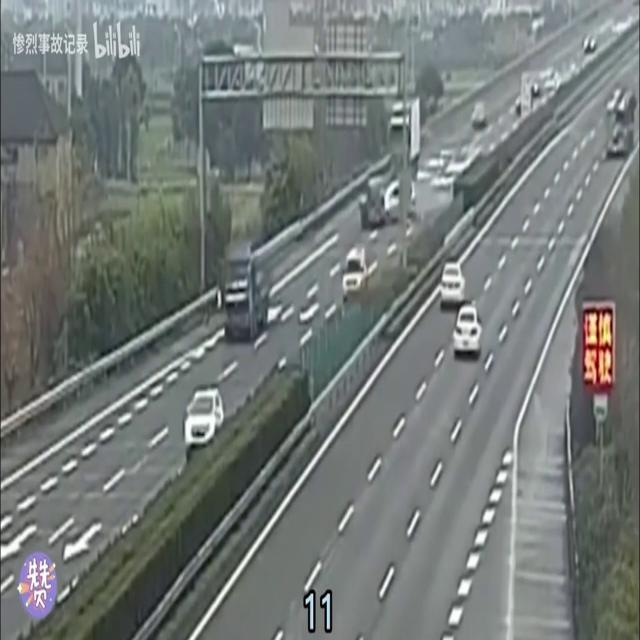normal: (136, 366, 240, 461), (217, 247, 286, 346), (438, 260, 492, 377)
